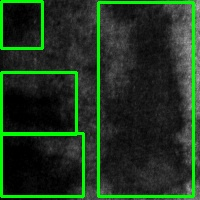patches: (98, 2, 193, 196), (1, 133, 83, 196), (1, 73, 76, 134), (1, 1, 42, 48)
